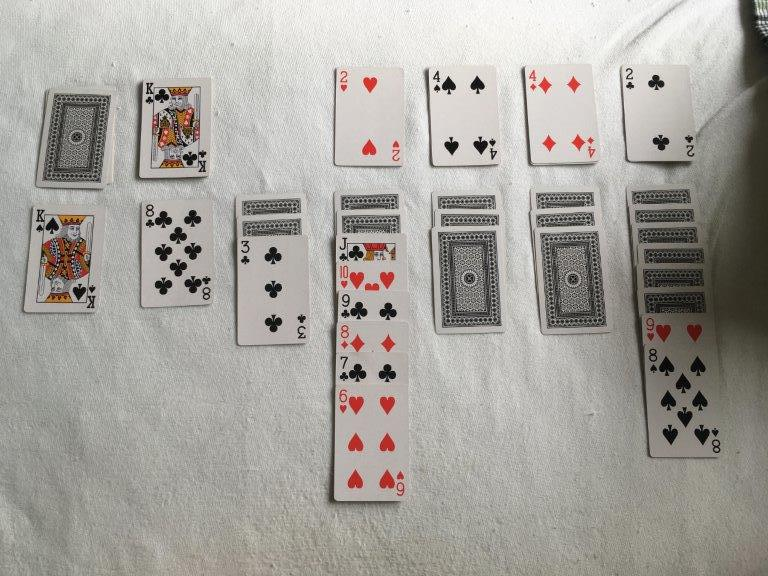10H: (337, 261, 350, 289)
2C: (623, 65, 636, 91)
2H: (338, 66, 352, 93)
3C: (238, 236, 255, 266)
4D: (527, 65, 539, 94)
4S: (430, 65, 445, 97)
6H: (337, 384, 350, 416)
7C: (337, 353, 351, 383)
8C: (143, 201, 156, 229)
8D: (338, 321, 351, 349)
8S: (647, 344, 661, 376)
9C: (339, 291, 354, 320)
9H: (644, 314, 656, 343)
BACK: (535, 225, 613, 335), (430, 225, 508, 335), (35, 87, 115, 190), (636, 286, 714, 313), (336, 208, 406, 232), (236, 212, 308, 235), (631, 221, 705, 243), (637, 263, 710, 285), (530, 185, 601, 207), (637, 242, 710, 263), (529, 205, 601, 226), (334, 188, 405, 209), (626, 183, 699, 202), (235, 193, 308, 212), (629, 203, 701, 222), (431, 189, 503, 208), (434, 207, 506, 225)
JC: (336, 234, 352, 259)
KC: (143, 79, 156, 106)
KS: (32, 205, 48, 236)
